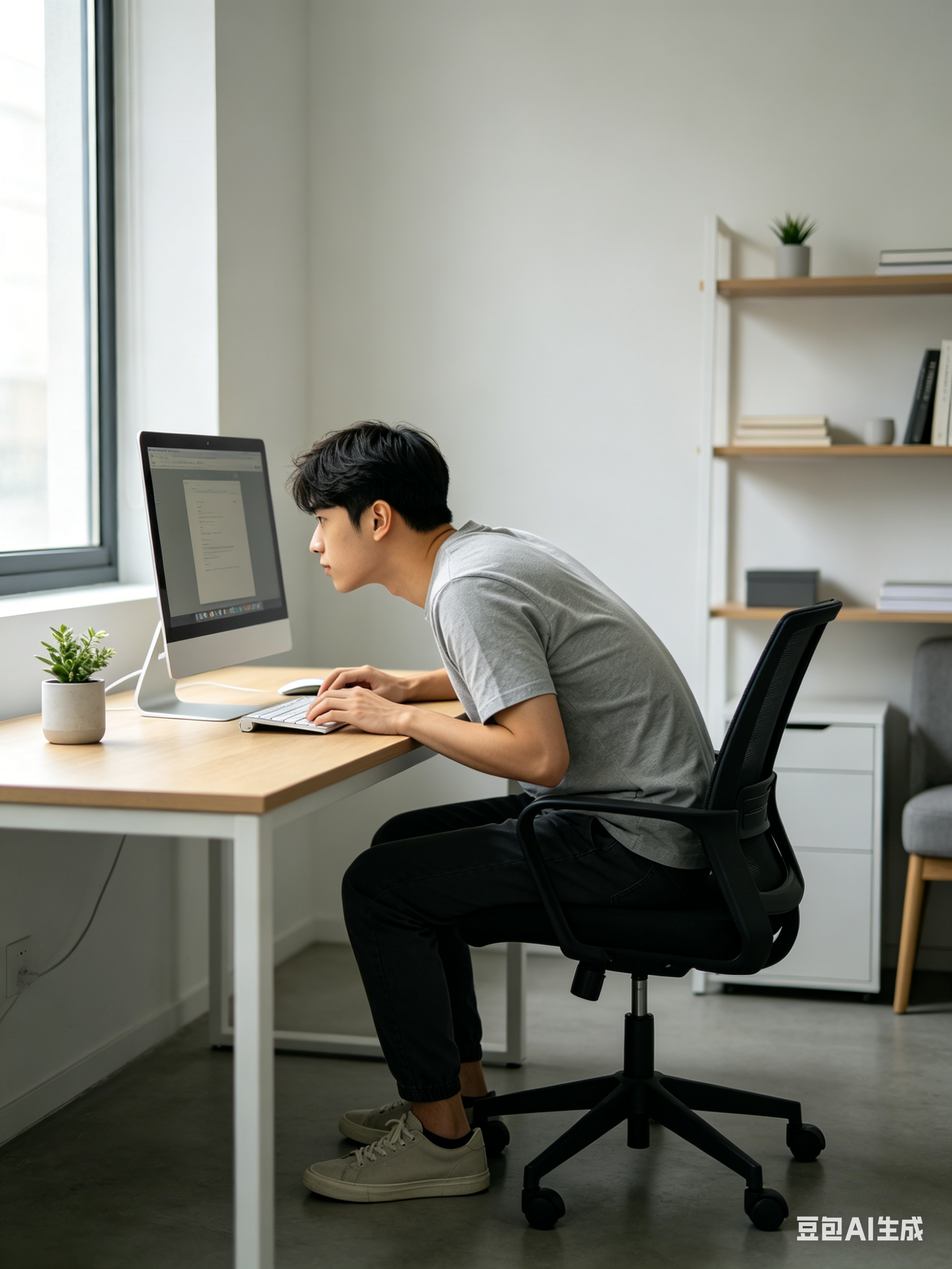sitting_bad: (284, 419, 707, 1176)
